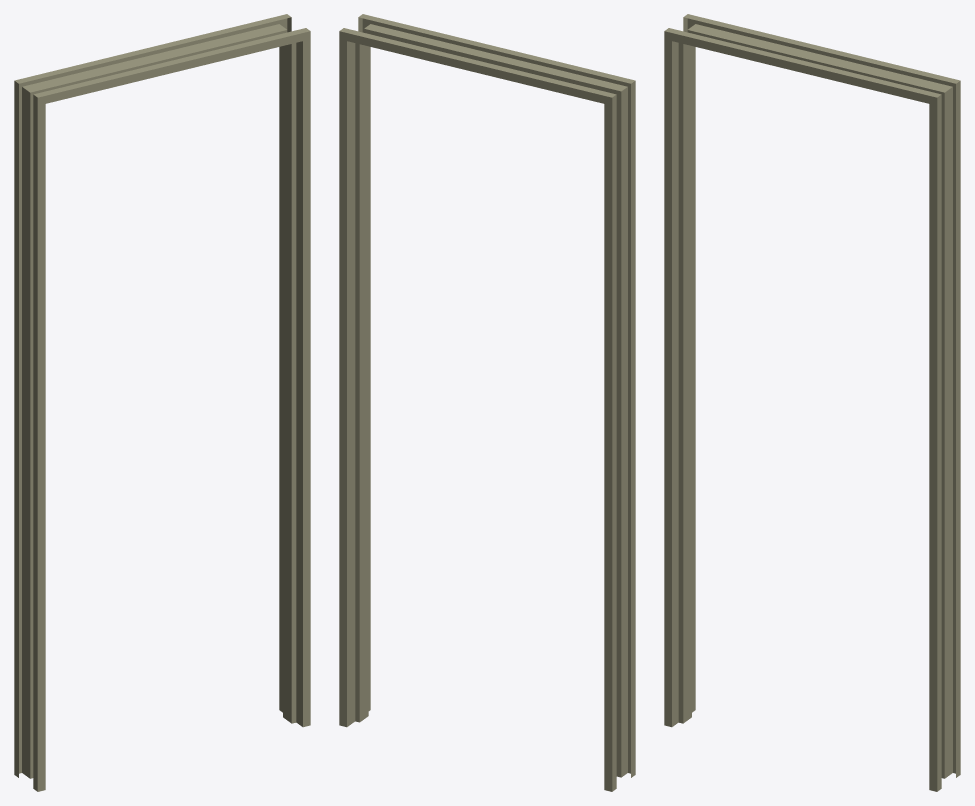
Rendered from door3-waku.FBX.
The picture shows the model from 3 angles, left to right: view 1: azimuth 30°, elevation 25°; view 2: azimuth 150°, elevation 25°; view 3: azimuth 330°, elevation 25°; orthographic projection.
Visible parts, largest first — view 1: 47:5:5; view 2: 47:5:5; view 3: 47:5:5.
Boxes of the visible parts, box(x1,y1,x2,y2) form: 47:5:5: box(14, 14, 310, 791); 47:5:5: box(339, 14, 635, 791); 47:5:5: box(664, 14, 960, 791).
Size of the model in its own units: 34.65 by 84.25 by 5.16.
